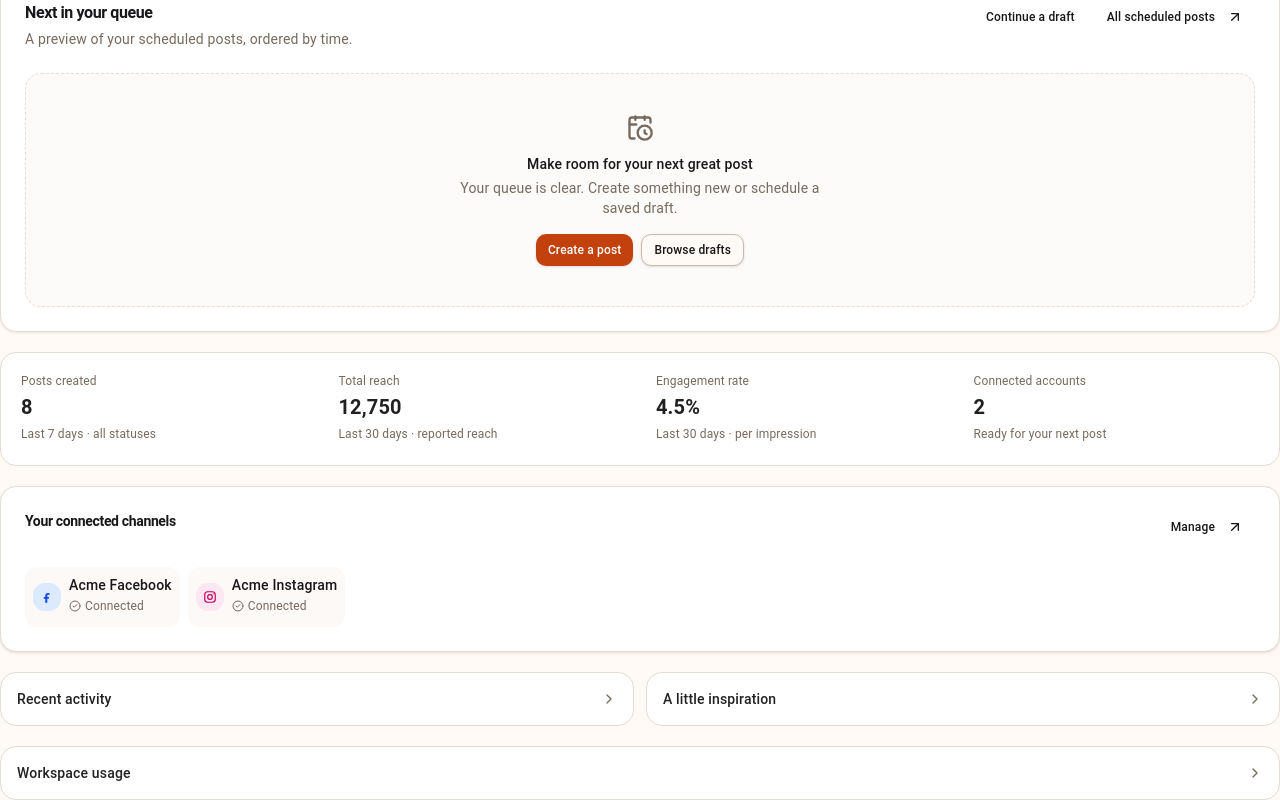
Test: SocialDashboard › distinguishes unlimited usage from a measured percentage
(page scrolled)
Click the heading "Workspace usage". click: (74, 772)
box: [17,764,1263,780]
(page scrolled)
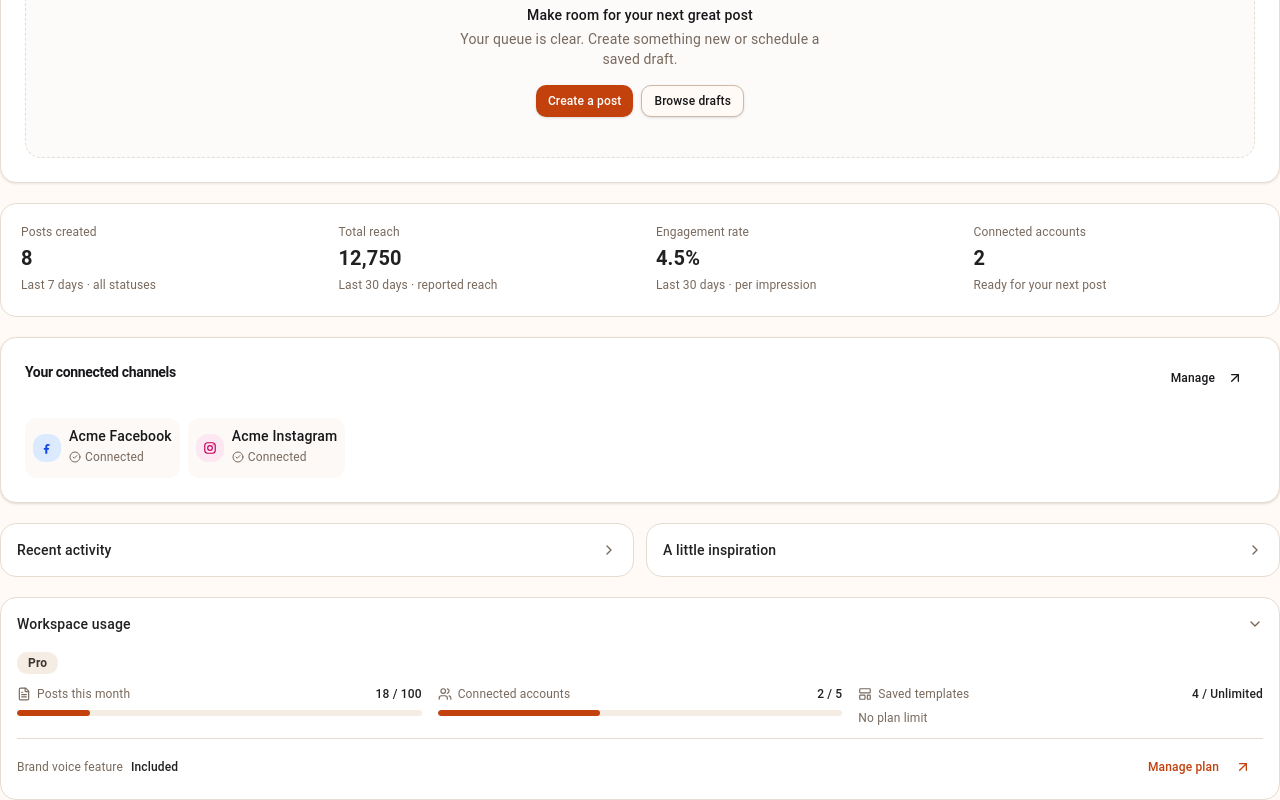
Now the text "4 / Unlimited" is shown, box [1192,686,1263,702]
Now the text "Brand voice feature" is shown, box [17,758,123,774]
Now the text "Included" is shown, box [131,758,178,774]
